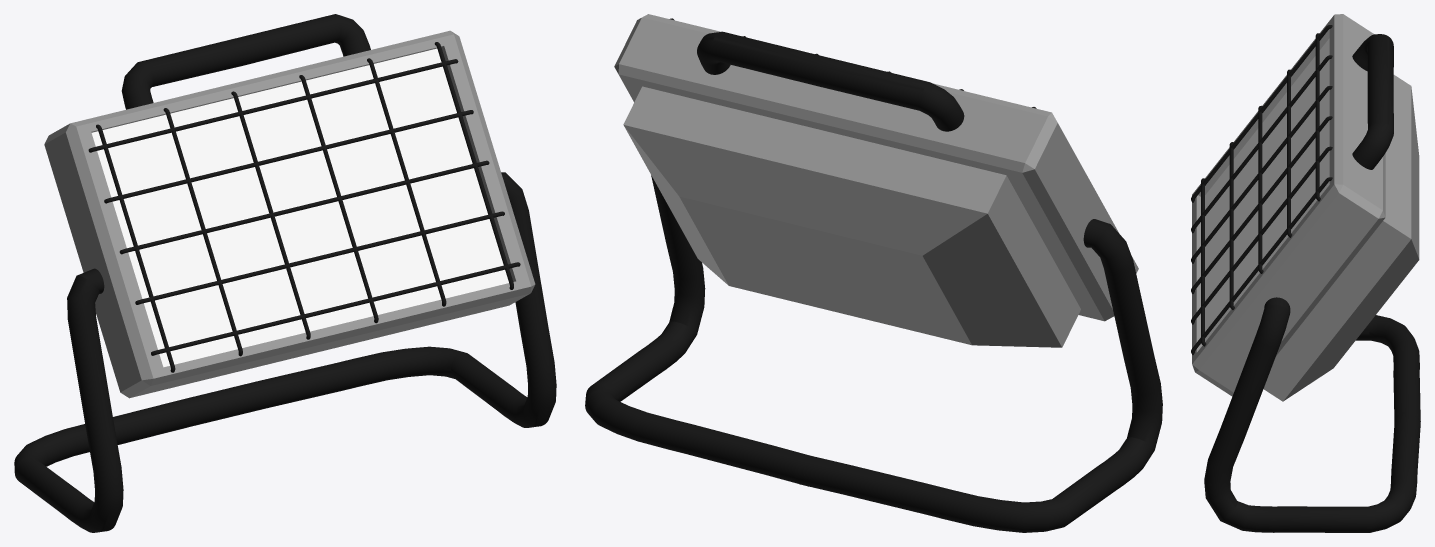
The model's file is Floor_Light.fbx.
3 views of the same model, side by side, from view 1: azimuth 30°, elevation 25°; view 2: azimuth 150°, elevation 25°; view 3: azimuth 270°, elevation 25° (orthographic). The views are drawn at different scales.
Visible parts, largest first — view 1: Cube.022, Cylinder.003; view 2: Cube.022, Cylinder.003; view 3: Cube.022, Cylinder.003.
Boxes of the visible parts, x1,y1,x2,y2 form: Cube.022: (44, 14, 535, 398); Cylinder.003: (14, 172, 556, 532); Cube.022: (614, 14, 1138, 347); Cylinder.003: (585, 175, 1162, 532); Cube.022: (1191, 14, 1419, 401); Cylinder.003: (1204, 297, 1420, 532).
Bounding box in the file's own units: 125 × 102 × 59.34.
